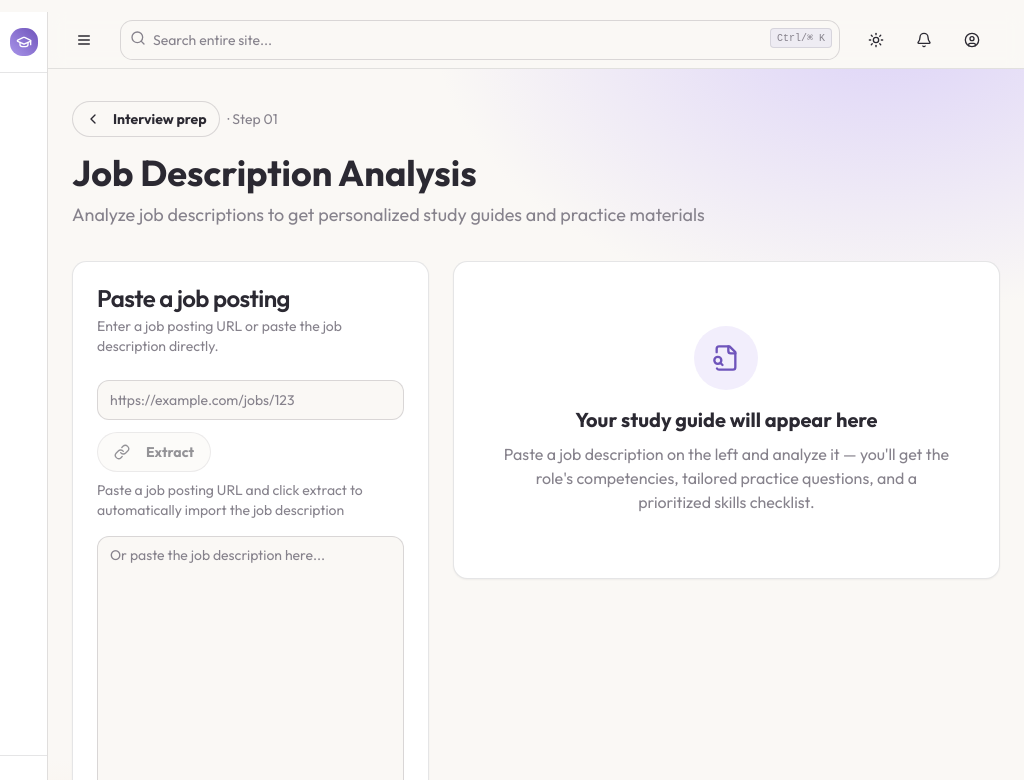
Test case: JobDescription page (Split Desk) › disables Extract without a URL and Analyze without a description
expect the heading "Job Description Analysis" is shown: met, box [72,150,477,195]
expect the button "Extract" is disabled: met, box [97,432,211,472]
Type "https://example.com/jobs/1" into the field with placeholder "https://example.com/jobs/123" at (250, 400), box [97,380,404,420]
(page scrolled)
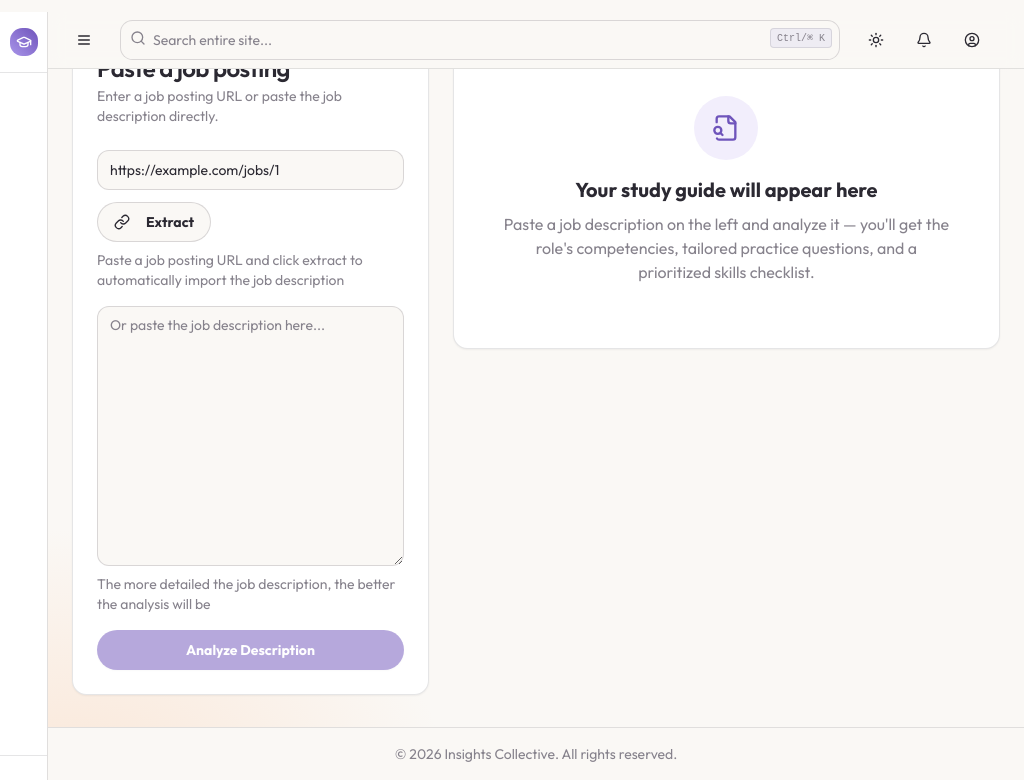
expect the button "Extract" is enabled: met, box [97,202,211,242]
Type "Senior ML Engineer role at Nimbus AI" into the text box with placeholder "Or paste the job description here..." at (250, 436), box [97,306,404,566]
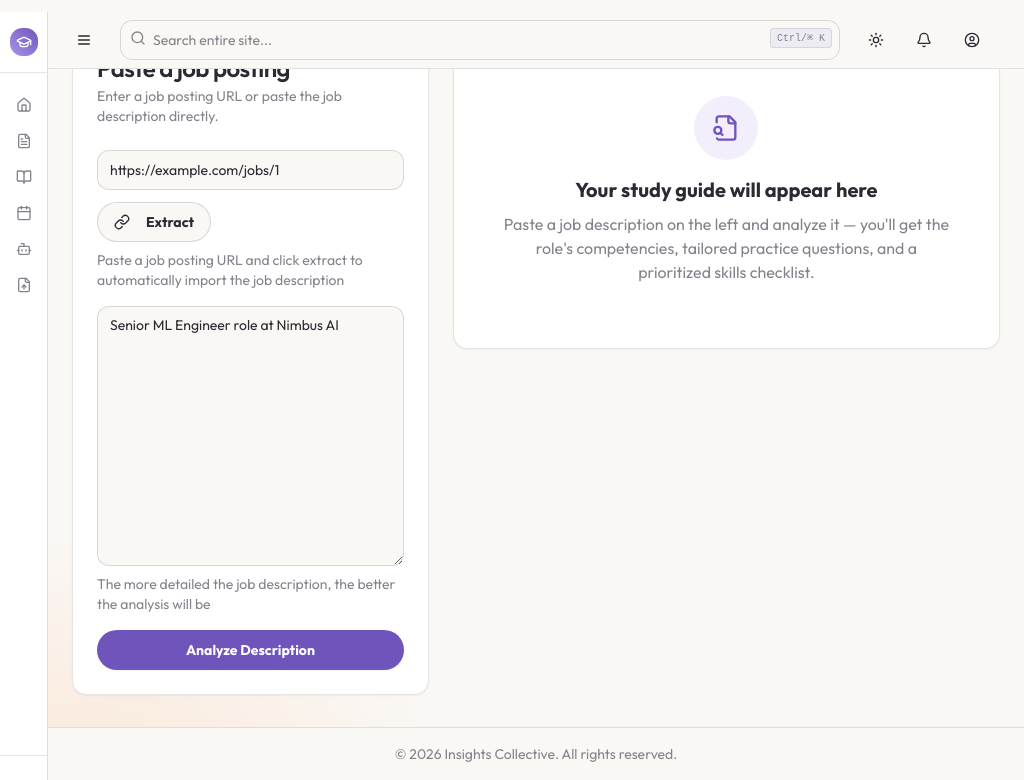
expect the button "Analyze Description" is enabled: met, box [97,630,404,670]
